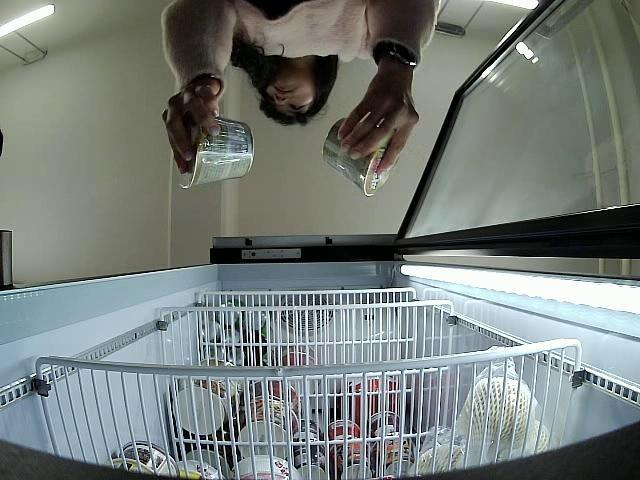04_chapagetti_S: (170, 116, 255, 190), (320, 116, 396, 198)
